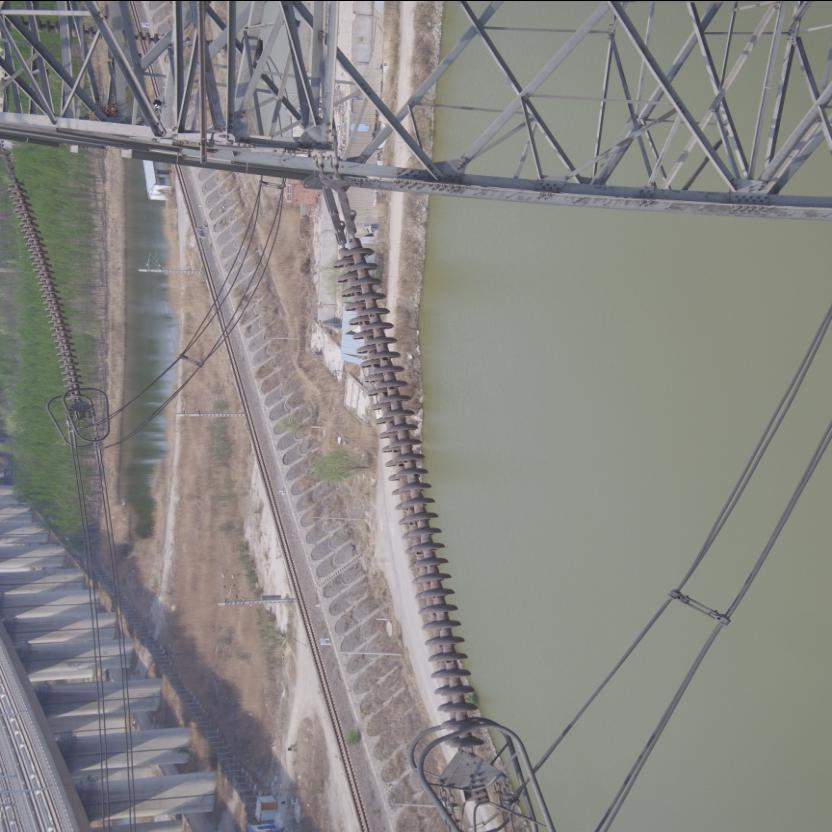insulator: (330, 217, 486, 765), (0, 166, 88, 402)
